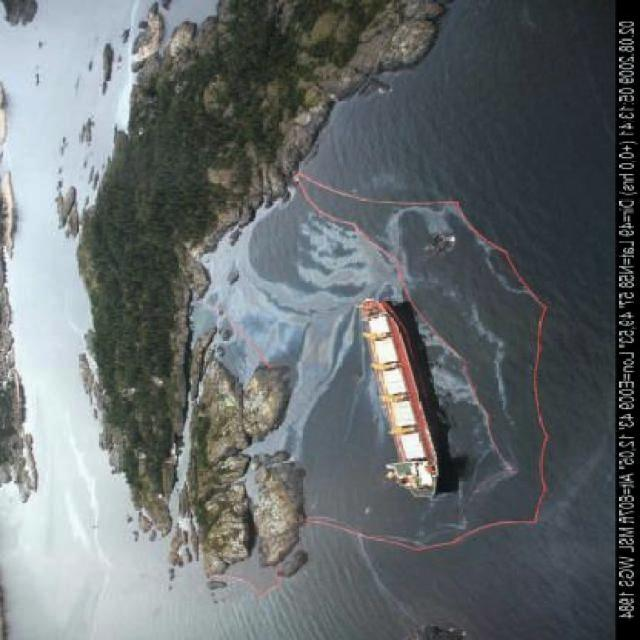oil: (178, 137, 548, 538), (28, 410, 122, 621)
